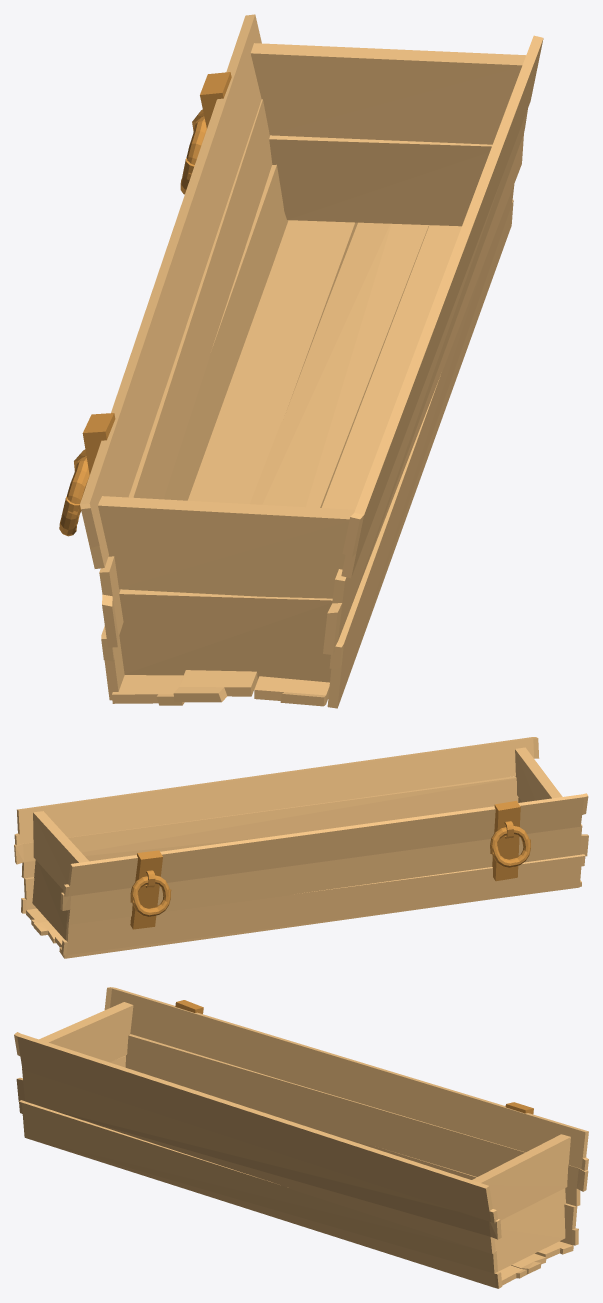
3 renders of one model, top to bottom at view 1: azimuth 30°, elevation 25°; view 2: azimuth 150°, elevation 25°; view 3: azimuth 270°, elevation 25°, orthographic. The views are drawn at different scales.
Visible parts, largest first — view 1: group_2133846589, group_272399213, group_977002837, group_474279194, group_354396859, group_526615061, group_170484009; view 2: group_272399213, group_354396859, group_977002837, group_526615061, group_170484009, group_2133846589, group_474279194; view 3: group_354396859, group_272399213, group_977002837, group_474279194, group_2133846589.
Part boxes in pixels (box(x1,y1,x2,y2)): group_2133846589: box(112, 220, 461, 706); group_272399213: box(80, 14, 288, 700); group_977002837: box(250, 43, 525, 226); group_474279194: box(98, 496, 354, 682); group_354396859: box(323, 35, 543, 708); group_526615061: box(59, 413, 115, 536); group_170484009: box(180, 72, 231, 194); group_272399213: box(60, 793, 588, 955); group_354396859: box(14, 737, 539, 913); group_977002837: box(32, 811, 88, 940); group_526615061: box(490, 800, 530, 881); group_170484009: box(130, 850, 171, 929); group_2133846589: box(26, 880, 581, 958); group_474279194: box(515, 747, 562, 802); group_354396859: box(14, 1032, 502, 1288); group_272399213: box(104, 987, 588, 1245); group_977002837: box(472, 1134, 570, 1271); group_474279194: box(39, 1002, 133, 1067); group_2133846589: box(498, 1241, 573, 1285).
Bounding box in the file's own units: 166 × 44.68 × 186.
